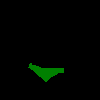mutande: (28, 62, 64, 82)
